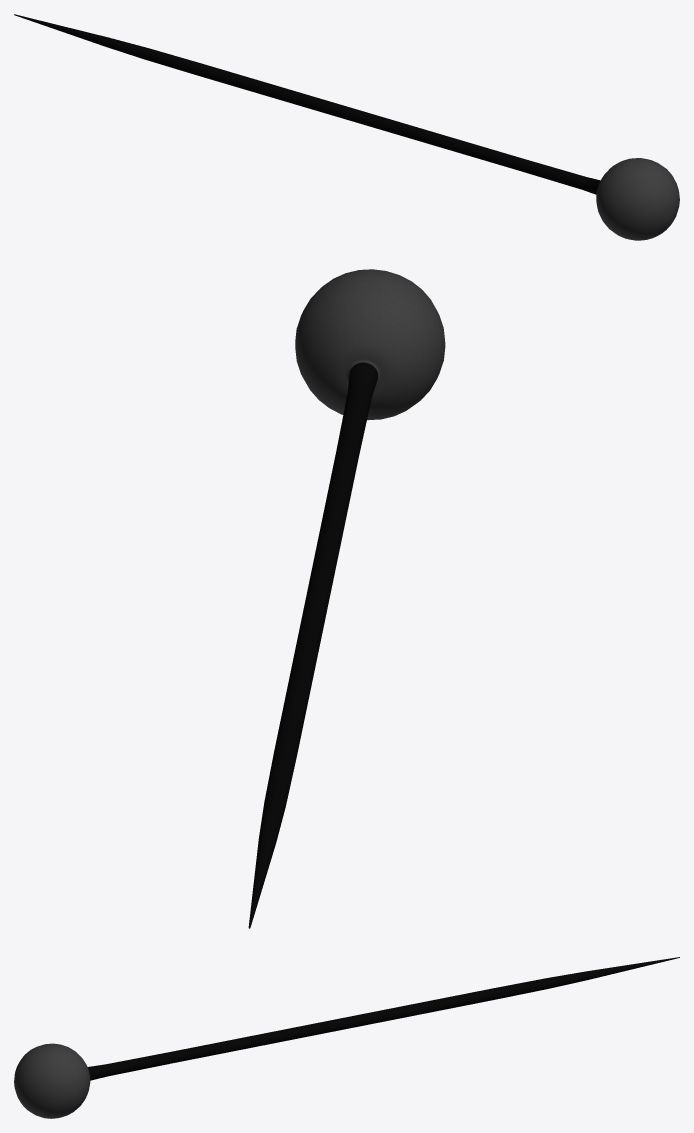
Rendered from pin_metal.glb.
3 renders of one model, top to bottom at view 1: azimuth 30°, elevation 25°; view 2: azimuth 150°, elevation 25°; view 3: azimuth 270°, elevation 25°, orthographic. The views are drawn at different scales.
Parts seen in each view (by area): view 1: Object_2; view 2: Object_2; view 3: Object_2.
Part boxes in pixels (x1,y1,x2,y2): Object_2: [14, 14, 679, 240]; Object_2: [248, 269, 445, 928]; Object_2: [14, 957, 679, 1118].
Size of the model in its own units: 1.42 by 0.3245 by 2.87.
Materials: 1 (1 with a texture image).
